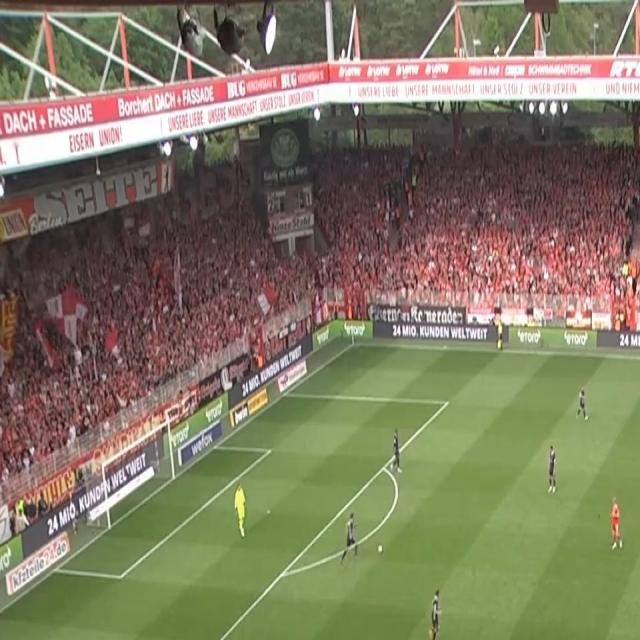ball: (378, 543, 383, 554)
